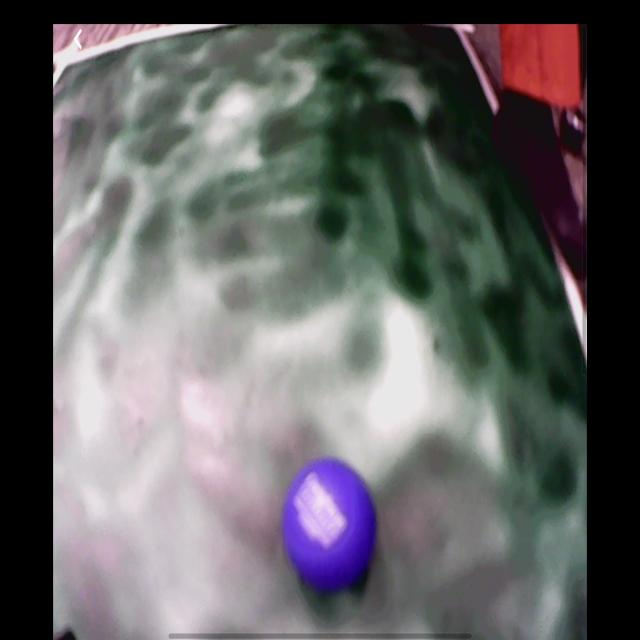ball: (284, 460, 377, 590)
